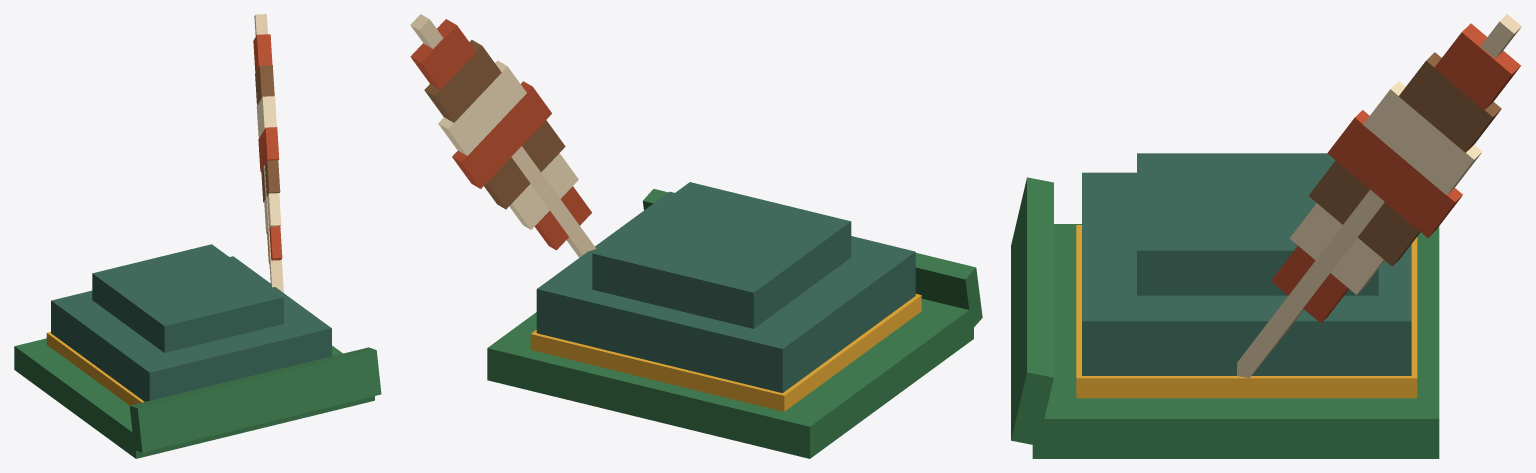
File: CatCafe_Accessory_FeatherCap.glb
The picture shows the model from 3 angles, left to right: view 1: azimuth 30°, elevation 25°; view 2: azimuth 150°, elevation 25°; view 3: azimuth 270°, elevation 25°; orthographic projection. The views are drawn at different scales.
Visible parts, largest first — view 1: CatCafe_Accessory_FeatherCap; view 2: CatCafe_Accessory_FeatherCap; view 3: CatCafe_Accessory_FeatherCap.
Boxes of the visible parts, x1,y1,x2,y2 form: CatCafe_Accessory_FeatherCap: (14, 14, 381, 458); CatCafe_Accessory_FeatherCap: (410, 14, 982, 458); CatCafe_Accessory_FeatherCap: (1011, 14, 1521, 458).
Size of the model in its own units: 0.9639 by 0.9297 by 0.9294.
Materials: 1 (1 with a texture image).
